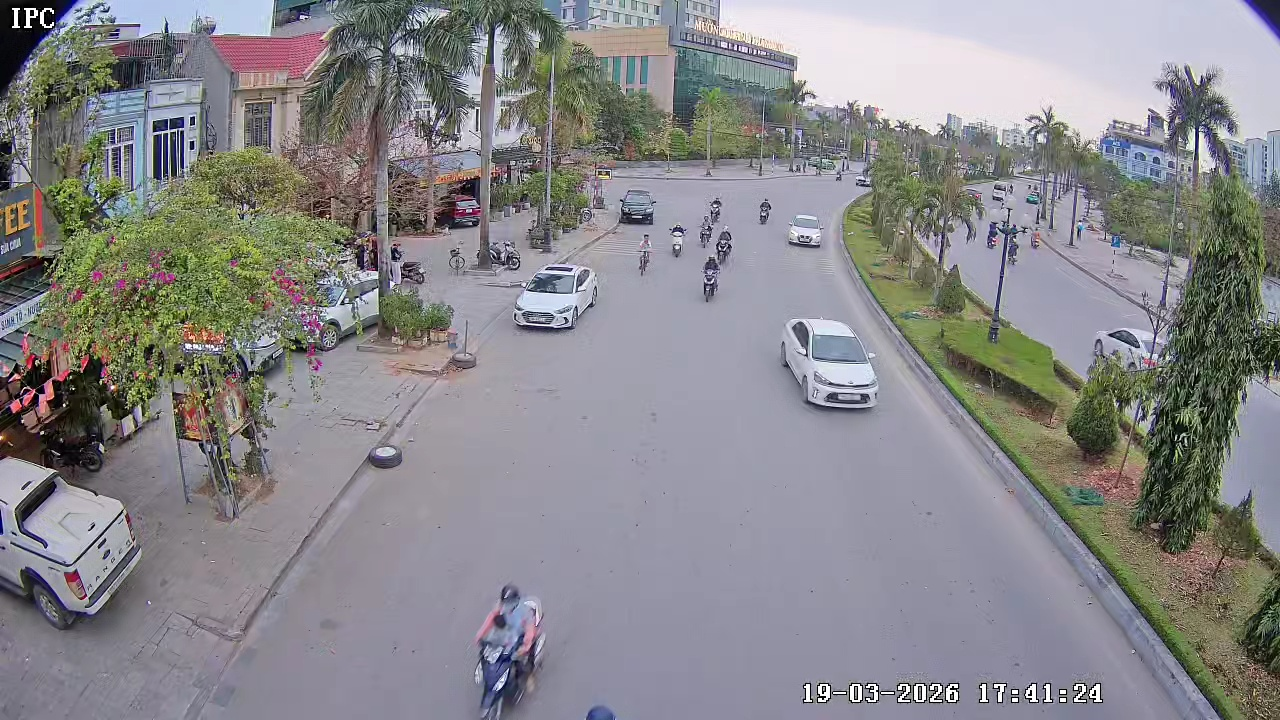car: (0, 486, 142, 629), (780, 316, 879, 409), (513, 262, 599, 332), (617, 186, 657, 225), (785, 211, 824, 249)
motorbike: (470, 582, 548, 719), (700, 252, 721, 303), (716, 224, 734, 265), (636, 234, 653, 274), (669, 221, 686, 257), (757, 196, 772, 226)
truck: (618, 187, 657, 225)
